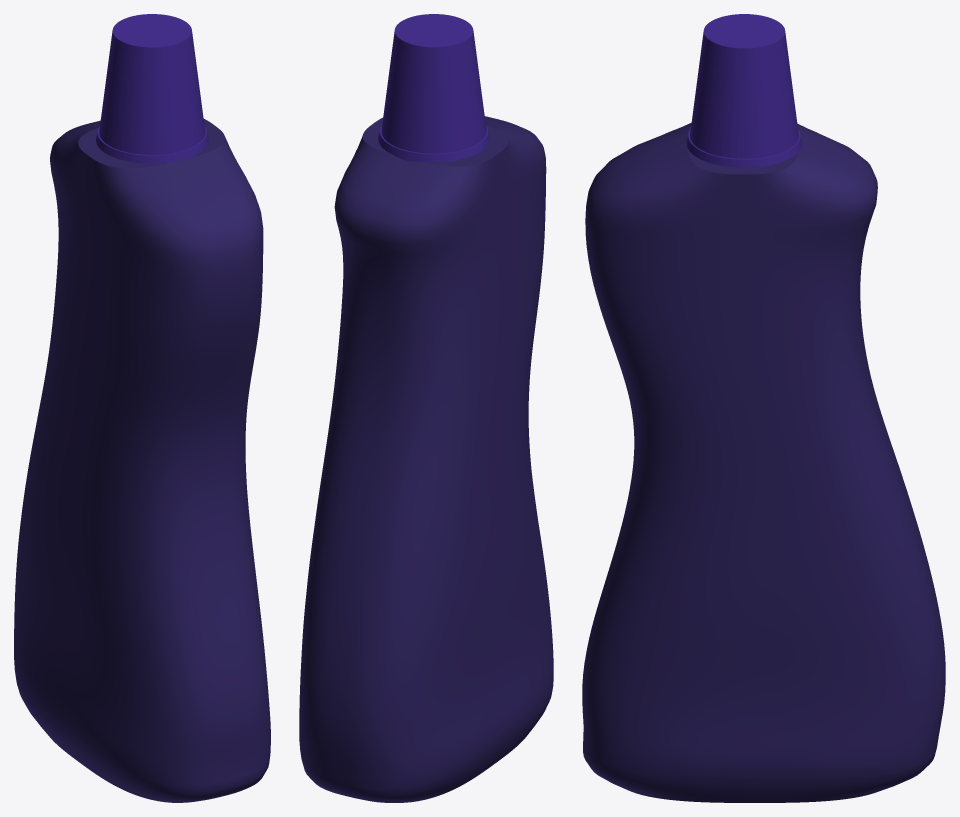
The model's file is detergent__b3bdba13378e.glb.
The picture shows the model from 3 angles, left to right: view 1: azimuth 30°, elevation 25°; view 2: azimuth 150°, elevation 25°; view 3: azimuth 270°, elevation 25°; orthographic projection. The views are drawn at different scales.
Parts seen in each view (by area): view 1: bottle_body, collar.004; view 2: bottle_body, collar.004; view 3: bottle_body, collar.004.
Boxes of the visible parts, left/top/right/bottom form: bottle_body: left=14, top=119, right=270, bottom=802; collar.004: left=96, top=14, right=208, bottom=163; bottle_body: left=299, top=116, right=553, bottom=802; collar.004: left=378, top=14, right=489, bottom=162; bottle_body: left=582, top=122, right=945, bottom=802; collar.004: left=686, top=14, right=802, bottom=167.
Size of the model in its own units: 0.0652 by 0.29 by 0.1292.
